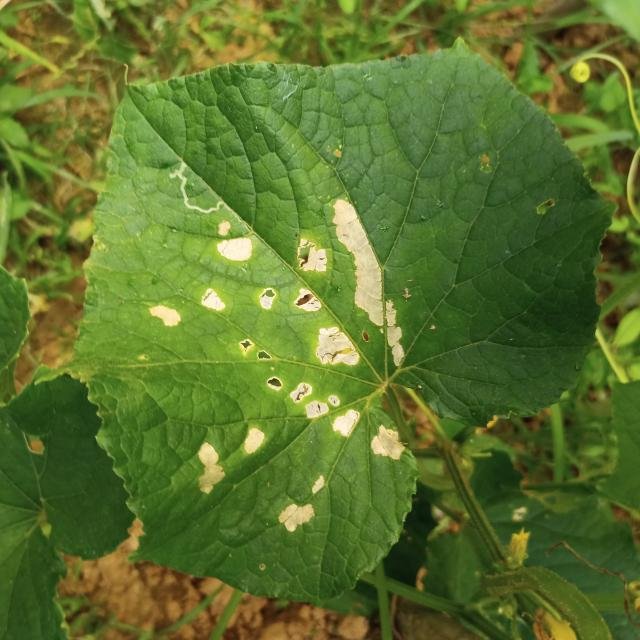disease_cucumber: (238, 199, 407, 461), (148, 222, 254, 340), (195, 425, 268, 495), (278, 473, 328, 538)
